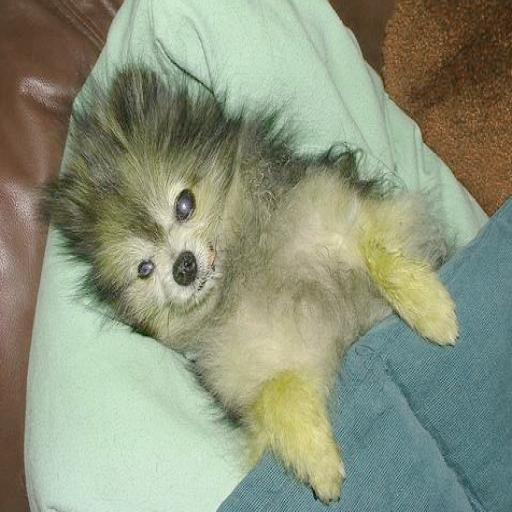dog_face: (55, 100, 233, 309)
